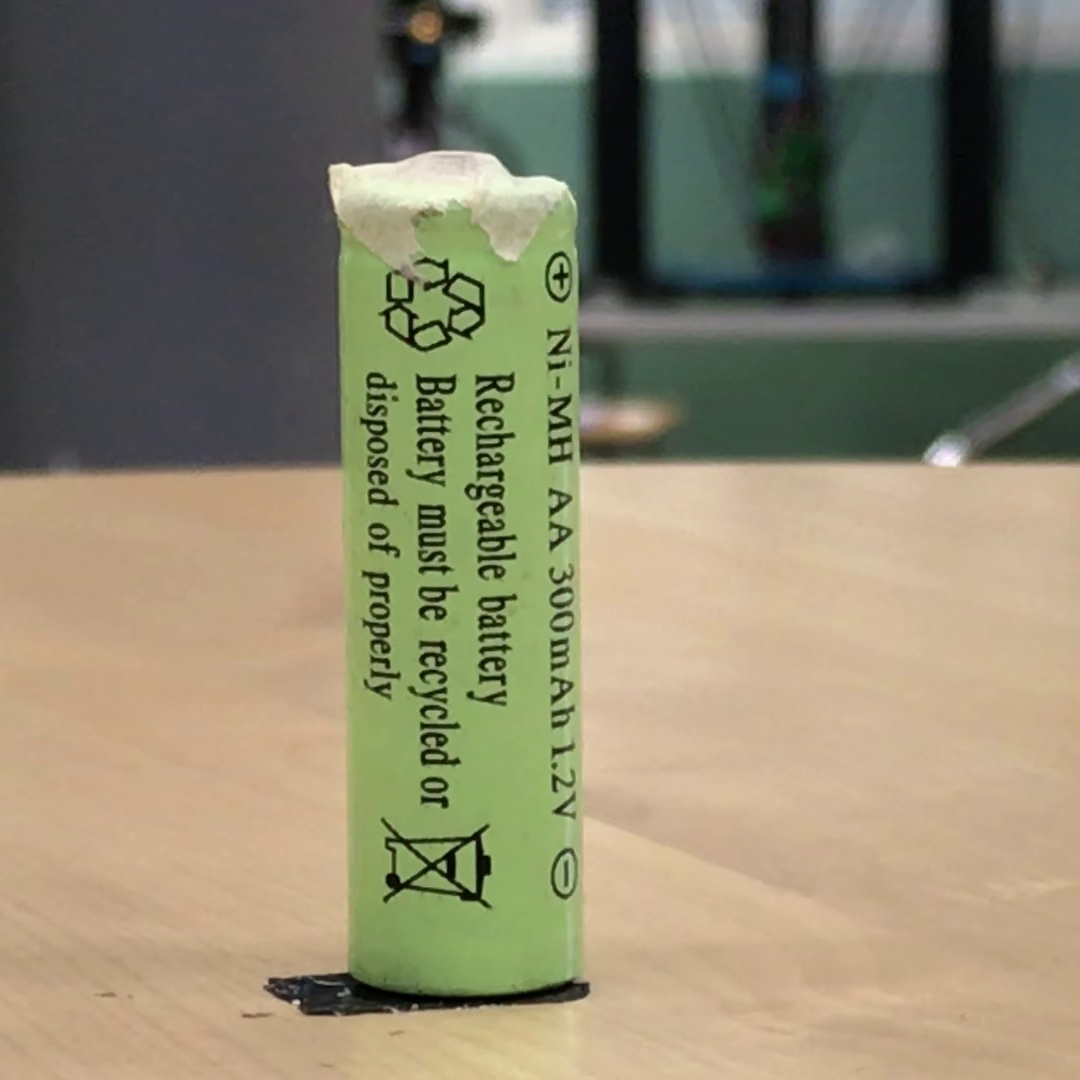keyword: (537, 318, 583, 474), (542, 733, 585, 828)
